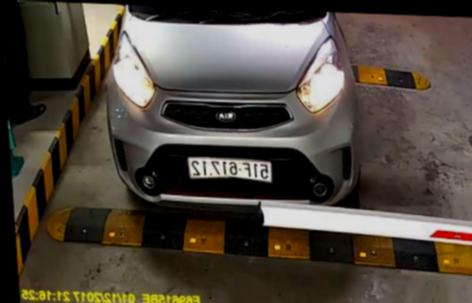License_Plate: (186, 153, 277, 185)
